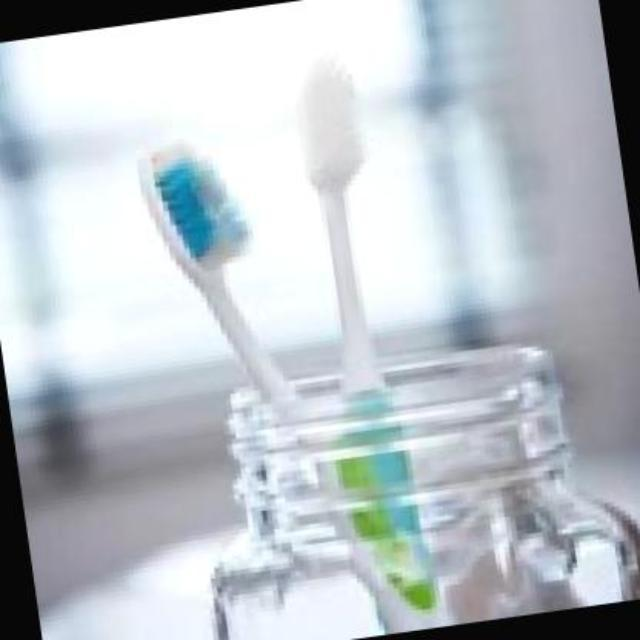toothbrush: (89, 80, 409, 360)
